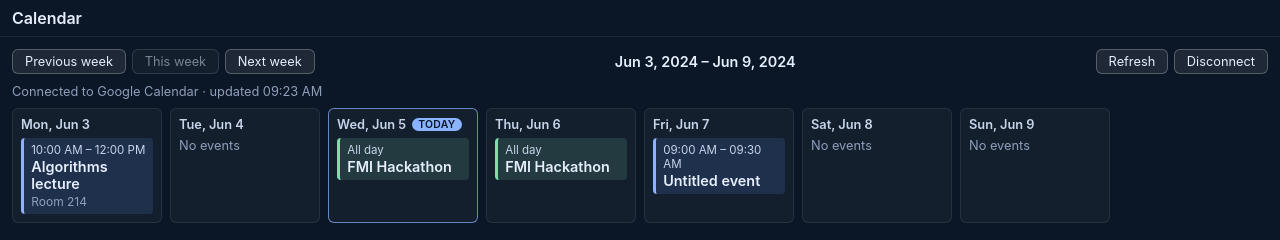
Test: CalendarApp: API mode › fetches the next week when navigating and shows the empty state
Check: the text "Algorithms lecture" is shown, box [31,158,108,192]
Click the button "Next week". click: (270, 62)
box: [225,49,315,74]
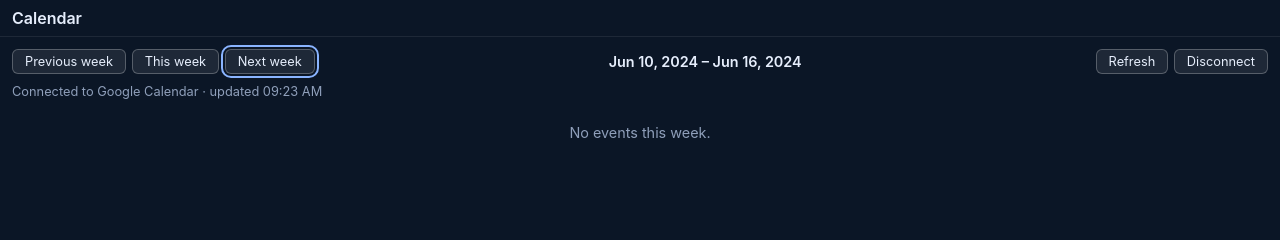
Check: the text with test id "calendar-empty" reads "No events this week.", box [569,124,711,141]
